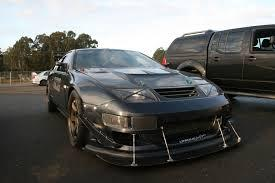front-bumper-dent: (100, 131, 237, 161)
